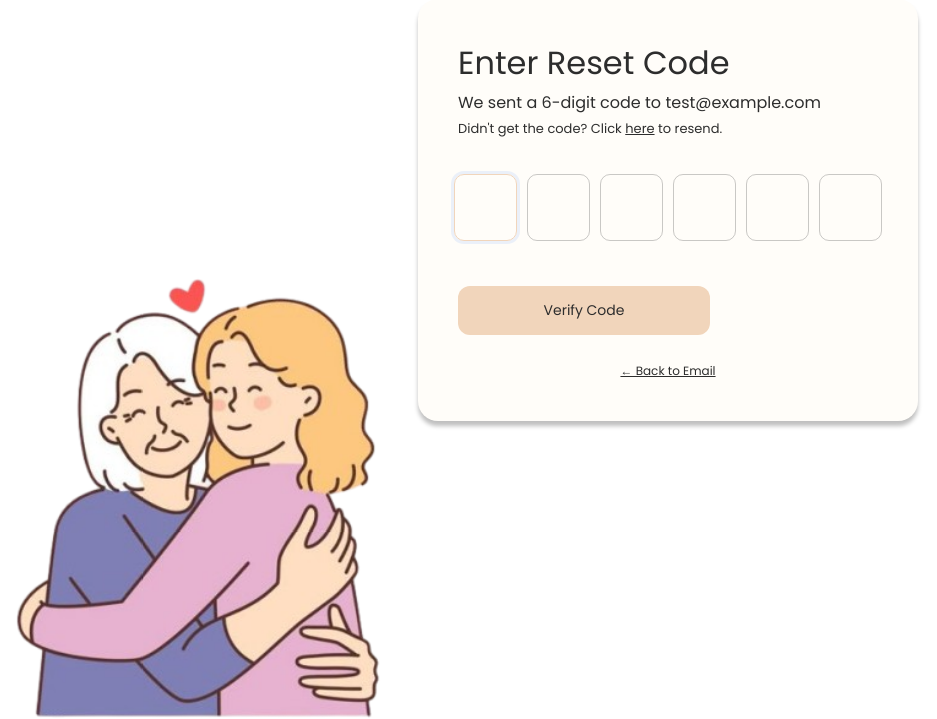
Test: ForgotPasswordOTP component › resends OTP when resend button is clicked
Click the button "here".
click(640, 129)  # box [625,119,655,138]
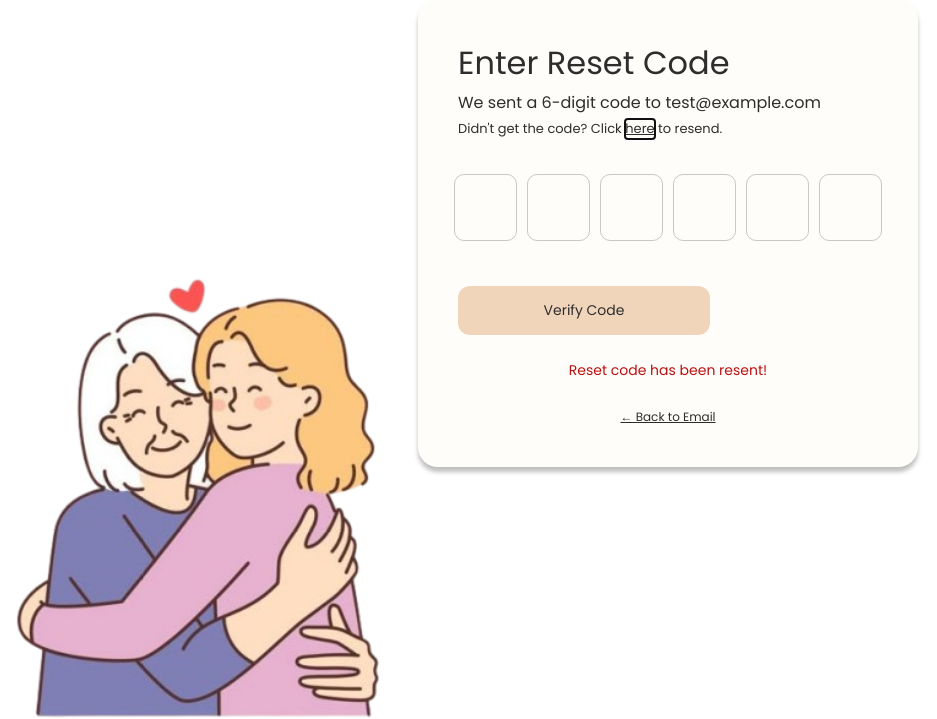
Check: the text "Reset code has been resent!" is shown, box [569,360,767,380]
